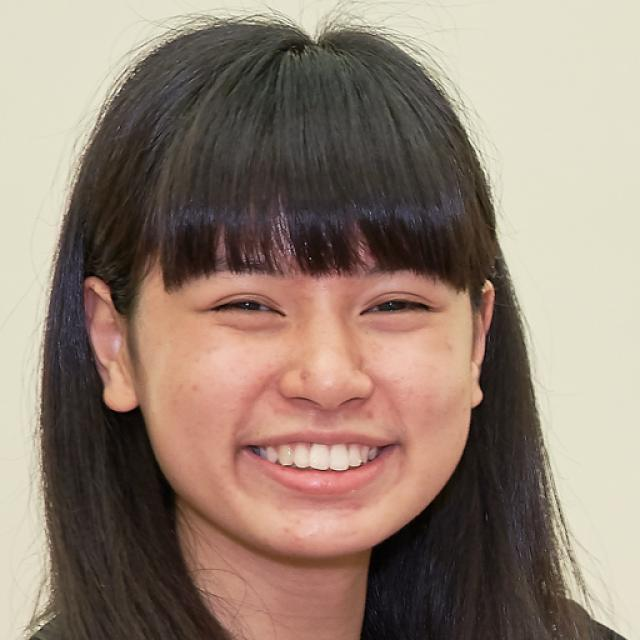Acne: (298, 369, 314, 384)
